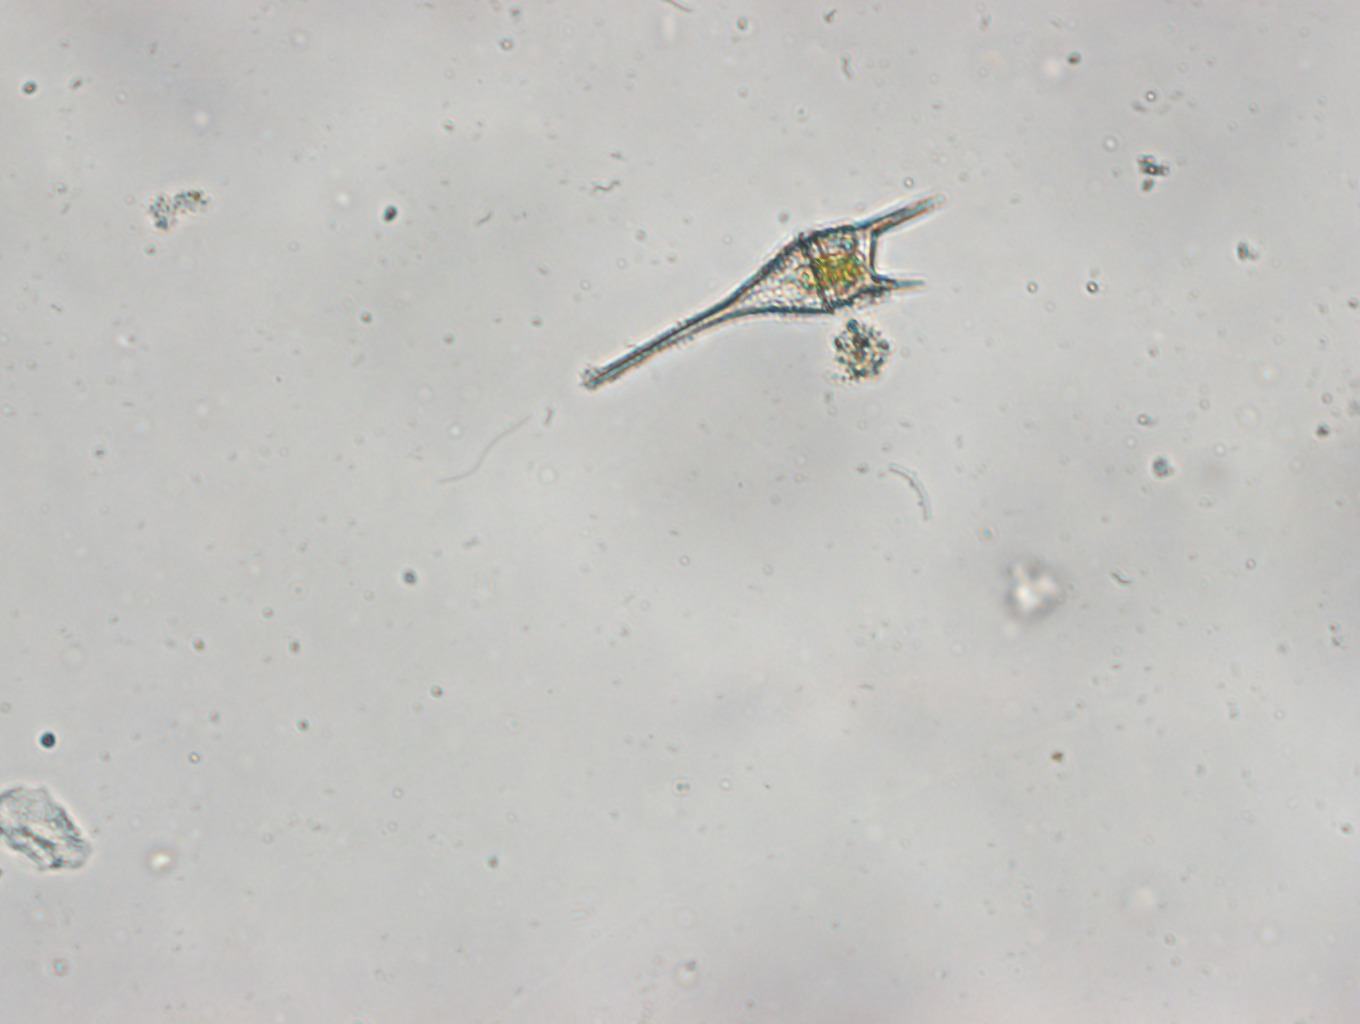ceratium furca: (573, 185, 949, 398)
